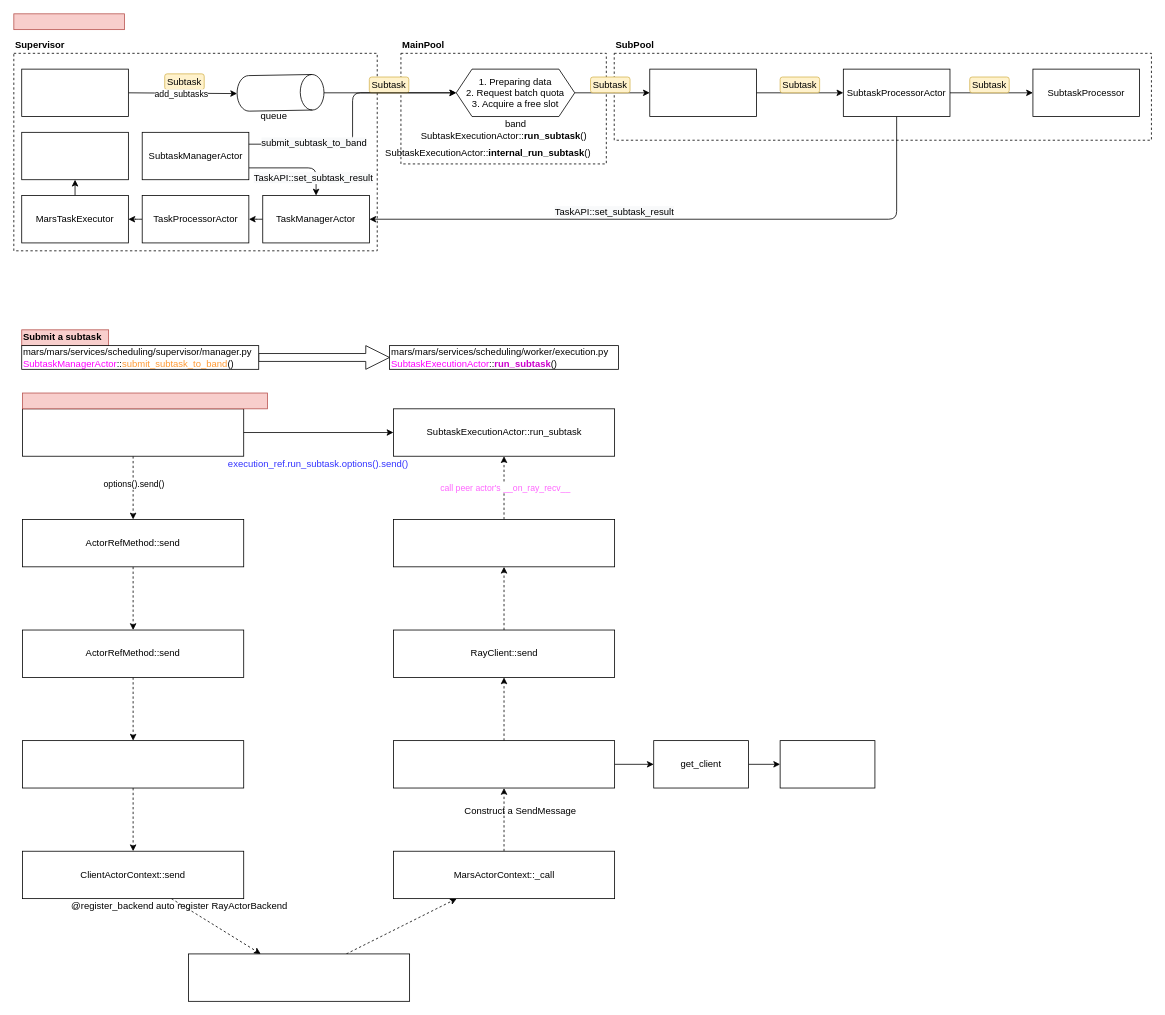
The diagram is 1165 pixels wide and 1015 high, and some of its shapes have lost their labels. The box of each missing label's shape, as (x1, y1, x2, y2) in pixels:
_listen: (779, 740, 875, 788)
ActorCaller::call: (393, 740, 615, 788)
get_context()::send: (22, 740, 244, 788)
MarsActorContext ::send: (188, 953, 410, 1001)
RayClientChannel::send: (393, 519, 615, 567)
Scheduling subtasks: (13, 13, 124, 30)
SubtaskManagerActor::submit_subtask_to_band: (22, 408, 244, 456)
SubtaskQueueingActor: (21, 68, 128, 117)
SubtaskRunnerActor: (649, 68, 756, 117)
supervisor send a message to trigger run a subtask: (22, 392, 267, 409)
TaskStageProcessor: (21, 132, 128, 180)
